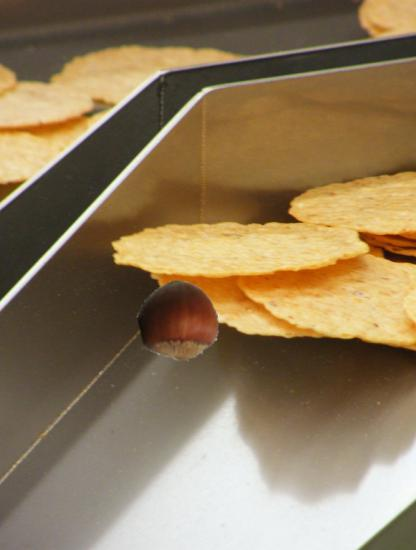Nut: (137, 280, 220, 363)
